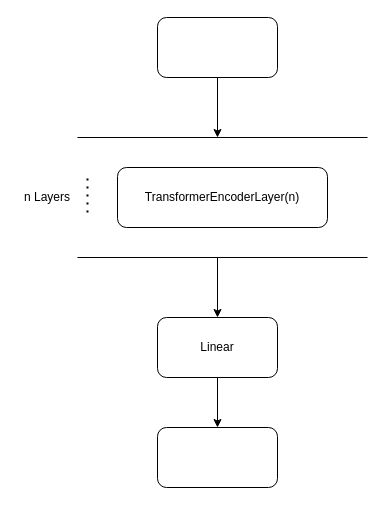
Some shapes in this 386 by 505 pixel diagram are drawn without their labels. The shapes that lost their labels are listed below. From the top down, each one's centre as x and y in pixels, then its label:
At point 217,47: "Input".
At point 217,457: "Output".
